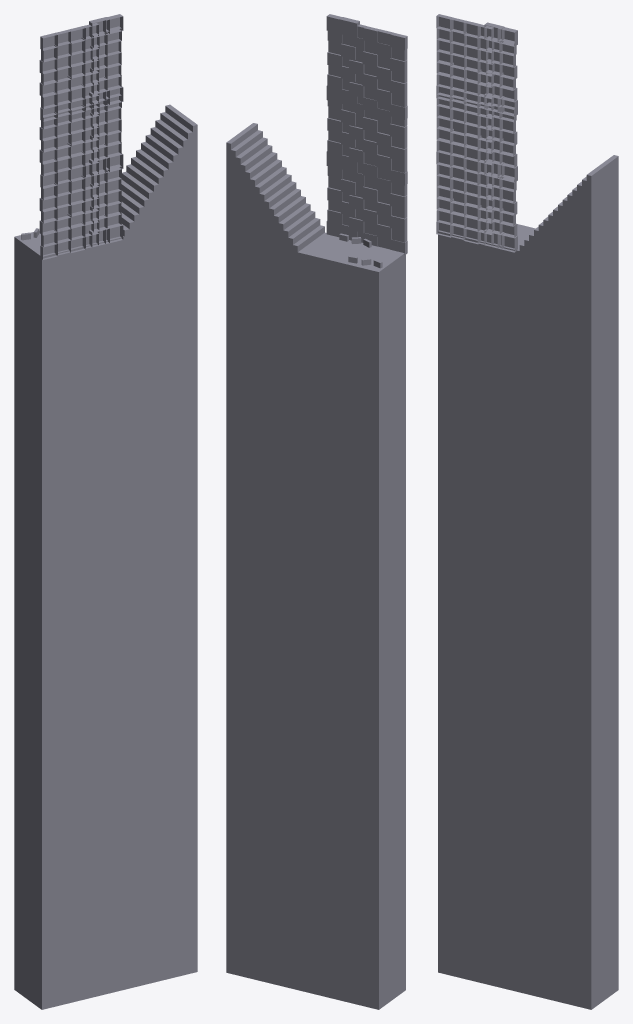
The model's file is DungeonPack1.fbx.
The picture shows the model from 3 angles, left to right: view 1: azimuth 30°, elevation 25°; view 2: azimuth 150°, elevation 25°; view 3: azimuth 330°, elevation 25°; orthographic projection. The views are drawn at different scales.
Visible parts, largest first — view 1: DungeonTile_1, DungeonStairs_1, DungeonWall_1; view 2: DungeonTile_1, DungeonStairs_1, DungeonWall_1; view 3: DungeonStairs_1, DungeonTile_1, DungeonWall_1.
Part boxes in pixels (x1,y1,x2,y2): DungeonTile_1: [14, 228, 119, 1009]; DungeonStairs_1: [119, 104, 197, 990]; DungeonWall_1: [39, 14, 123, 259]; DungeonTile_1: [302, 233, 405, 1009]; DungeonStairs_1: [226, 123, 327, 991]; DungeonWall_1: [326, 14, 407, 254]; DungeonStairs_1: [514, 155, 618, 1009]; DungeonTile_1: [438, 224, 535, 990]; DungeonWall_1: [436, 14, 517, 252].
Bounding box in the file's own units: 26.06 × 156 × 8.52.
